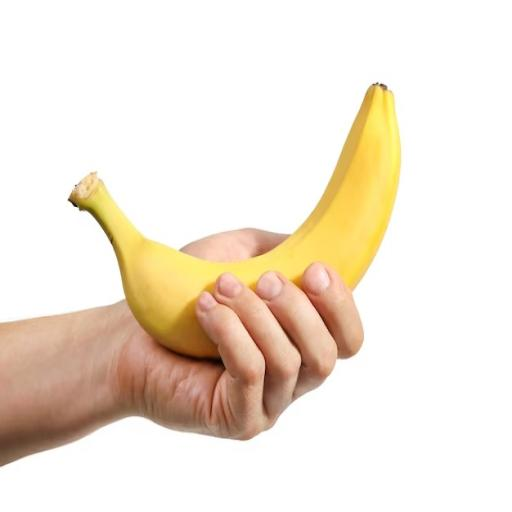banana: (69, 84, 400, 358)
